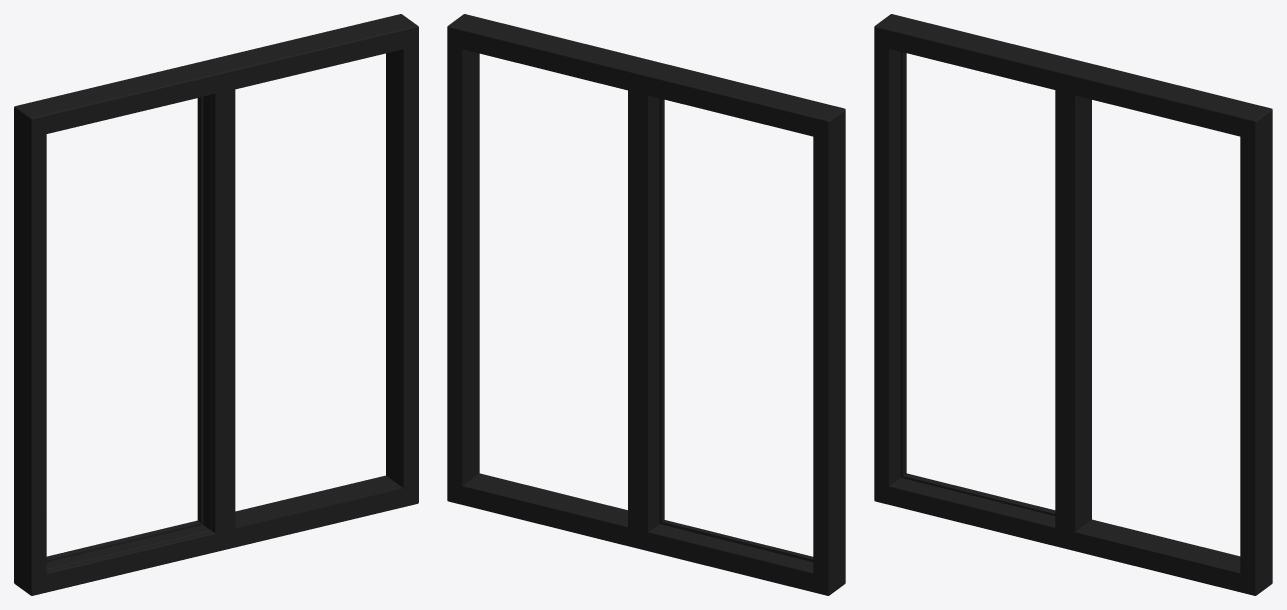
The model's file is WindowDoor.gltf.
The picture shows the model from 3 angles, left to right: view 1: azimuth 30°, elevation 25°; view 2: azimuth 150°, elevation 25°; view 3: azimuth 330°, elevation 25°; orthographic projection.
Visible parts, largest first — view 1: Object_12; view 2: Object_12; view 3: Object_12.
Boxes of the visible parts, <box> form: Object_12: <box>14,14,418,595</box>; Object_12: <box>447,14,845,595</box>; Object_12: <box>874,14,1272,595</box>.
Size of the model in its own units: 1.35 by 1.6 by 0.1175.
1 material, 1 textured.
